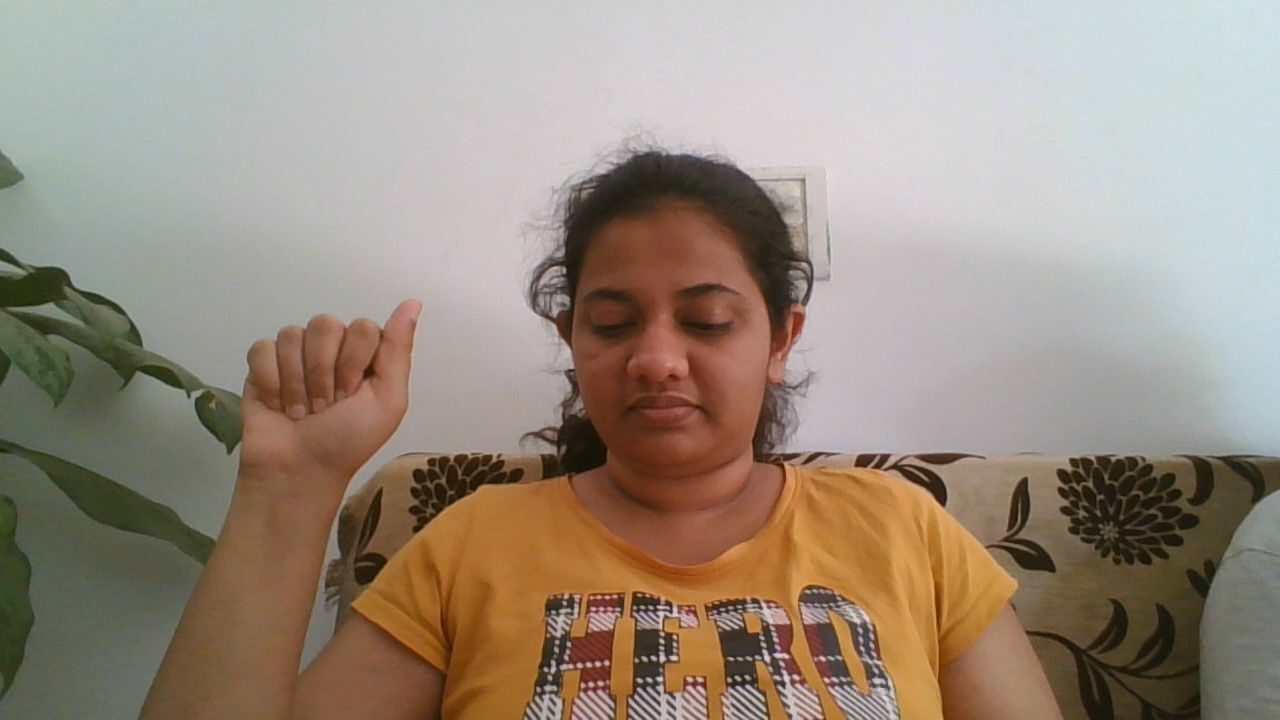a: (213, 287, 443, 488)
